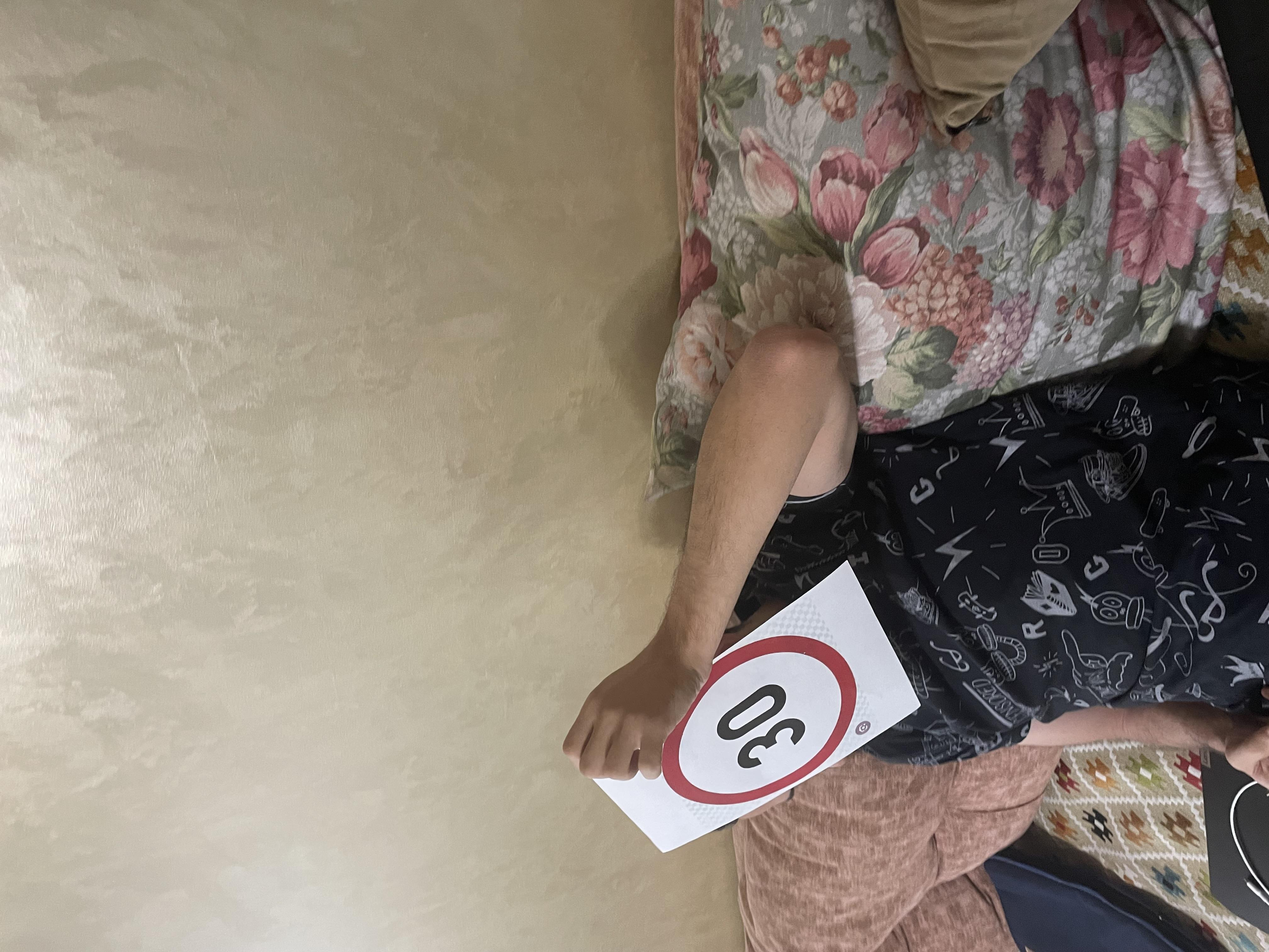30-speed: (183, 485, 429, 647)
